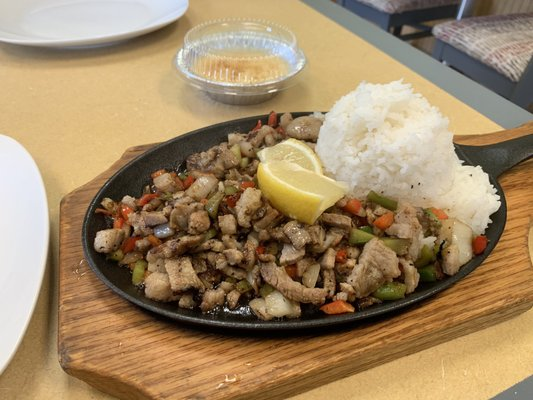sushi: (77, 108, 527, 340), (174, 18, 307, 106)
